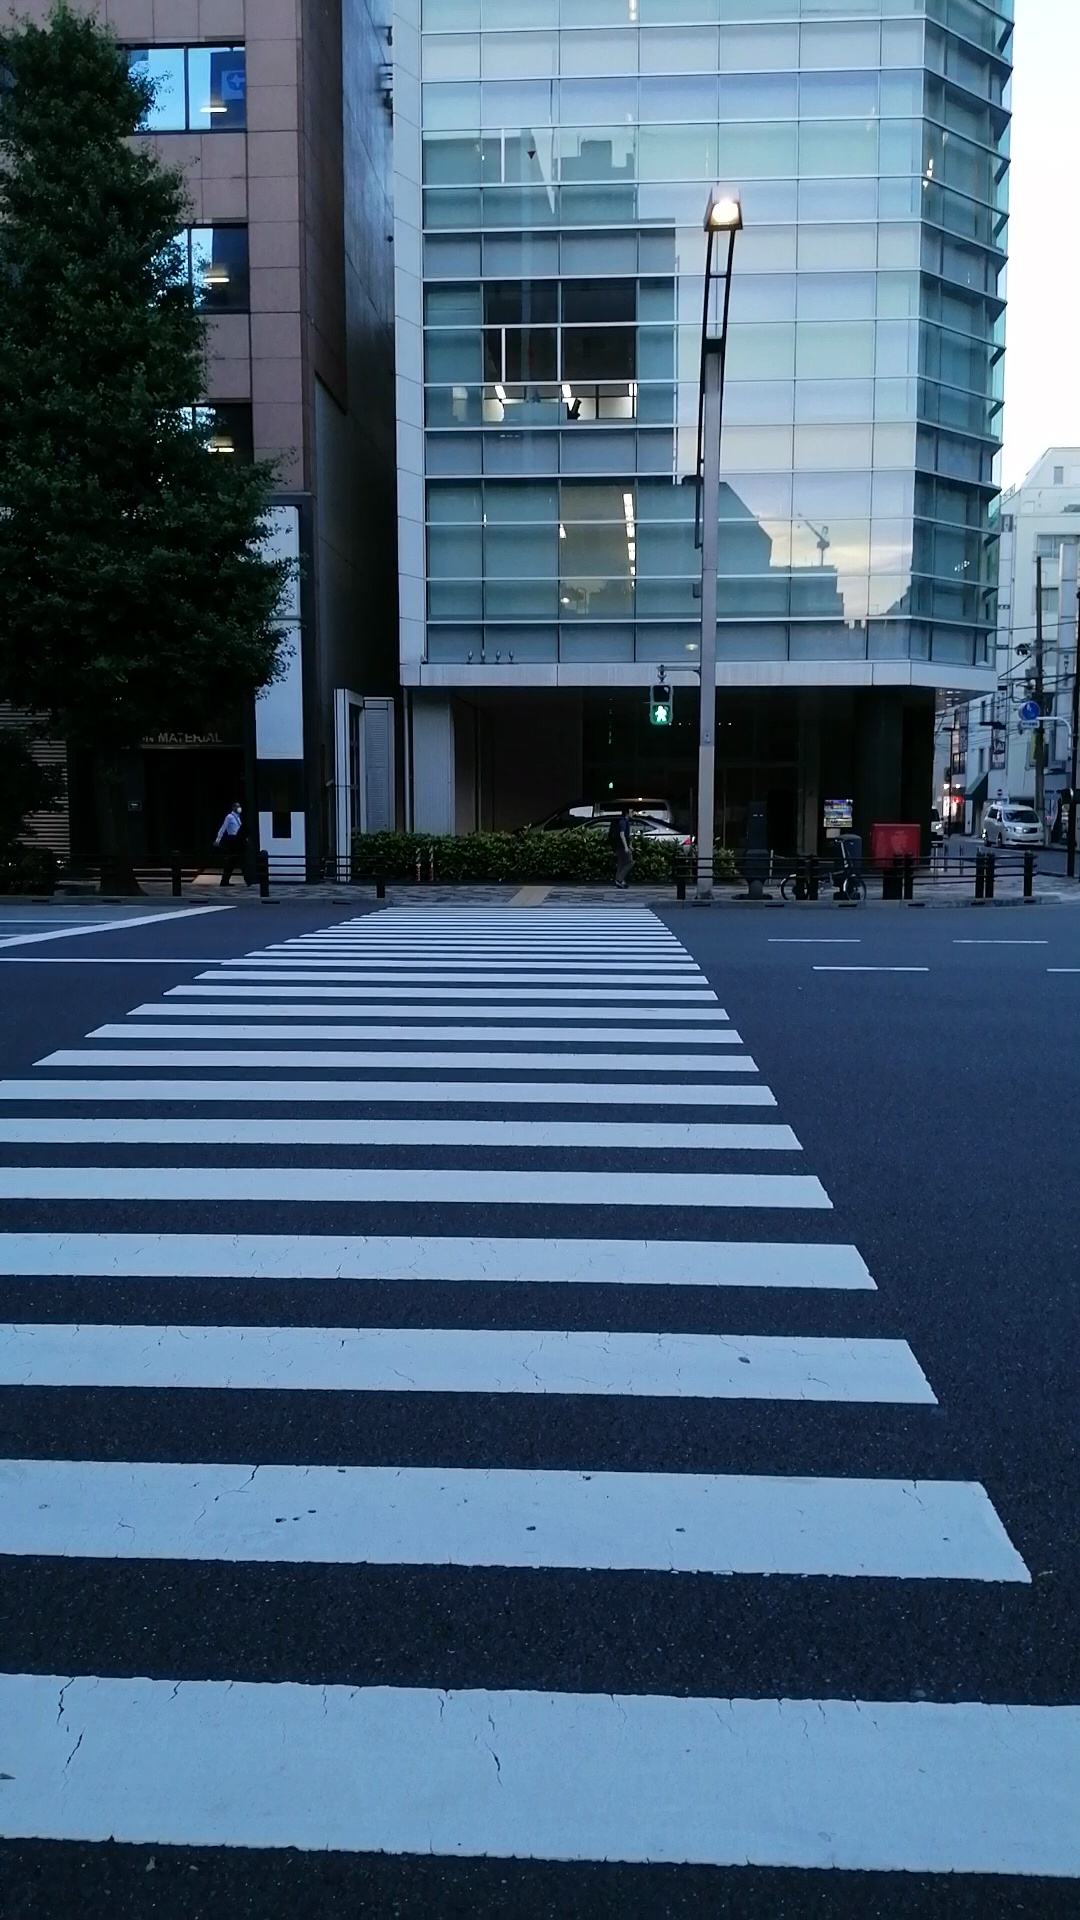green: (649, 682, 673, 728)
